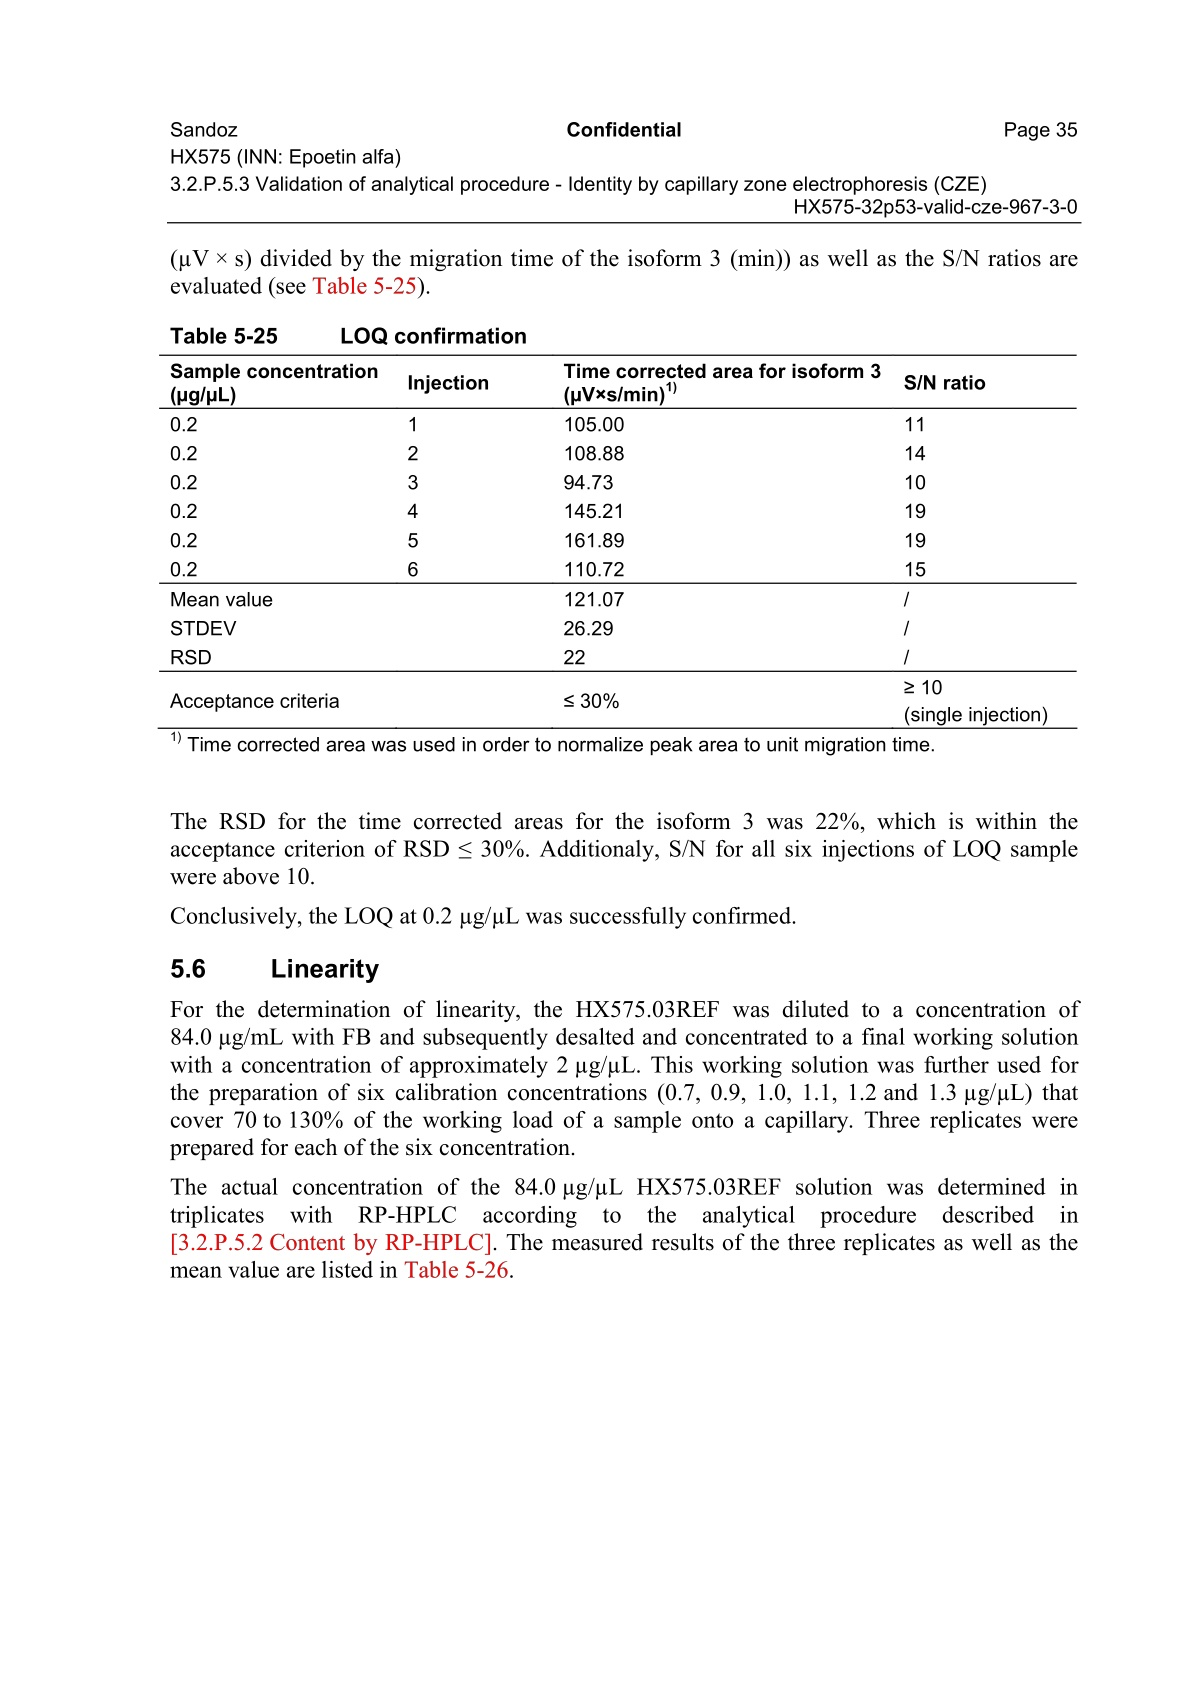partial_lined: (157, 352, 1078, 731)
